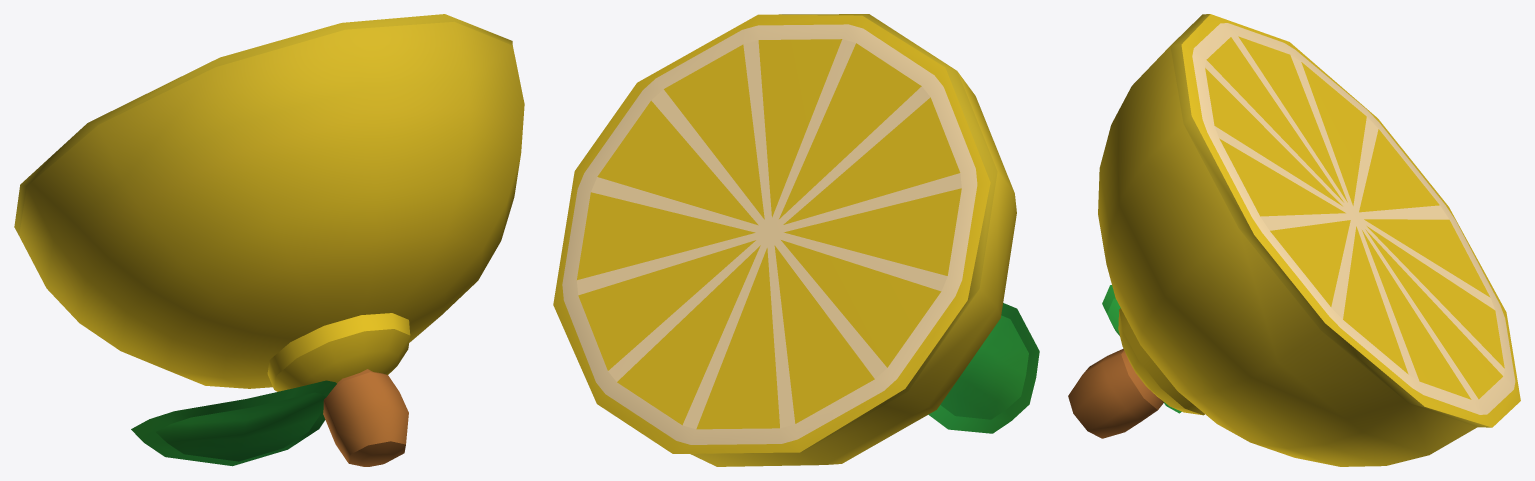
Rendered from Lemon_Half_1.glb.
3 views of the same model, side by side, from view 1: azimuth 30°, elevation 25°; view 2: azimuth 150°, elevation 25°; view 3: azimuth 270°, elevation 25° (orthographic). The views are drawn at different scales.
Parts seen in each view (by area): view 1: Lemon_Half_1; view 2: Lemon_Half_1; view 3: Lemon_Half_1.
Part boxes in pixels (x1,y1,x2,y2): Lemon_Half_1: (14,14,524,466); Lemon_Half_1: (553,14,1039,466); Lemon_Half_1: (1068,14,1520,466).
Bounding box in the file's own units: 0.1014 × 0.0889 × 0.0901.
Materials: 1 (1 with a texture image).
